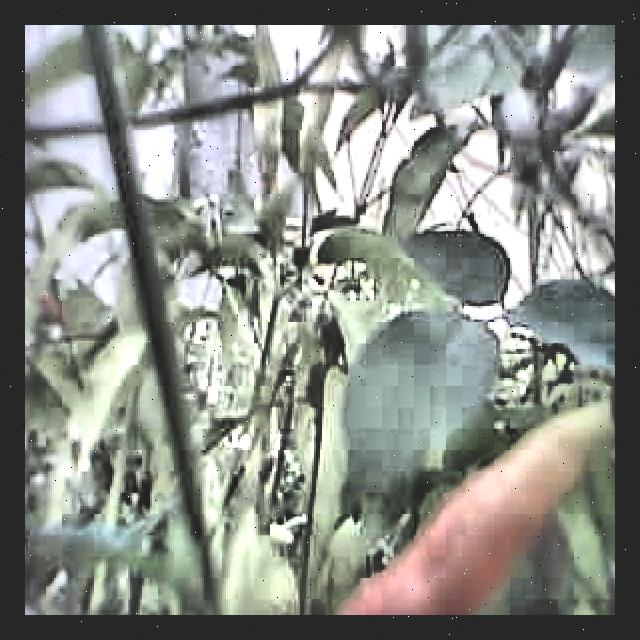Cabai: (311, 391, 615, 615)
